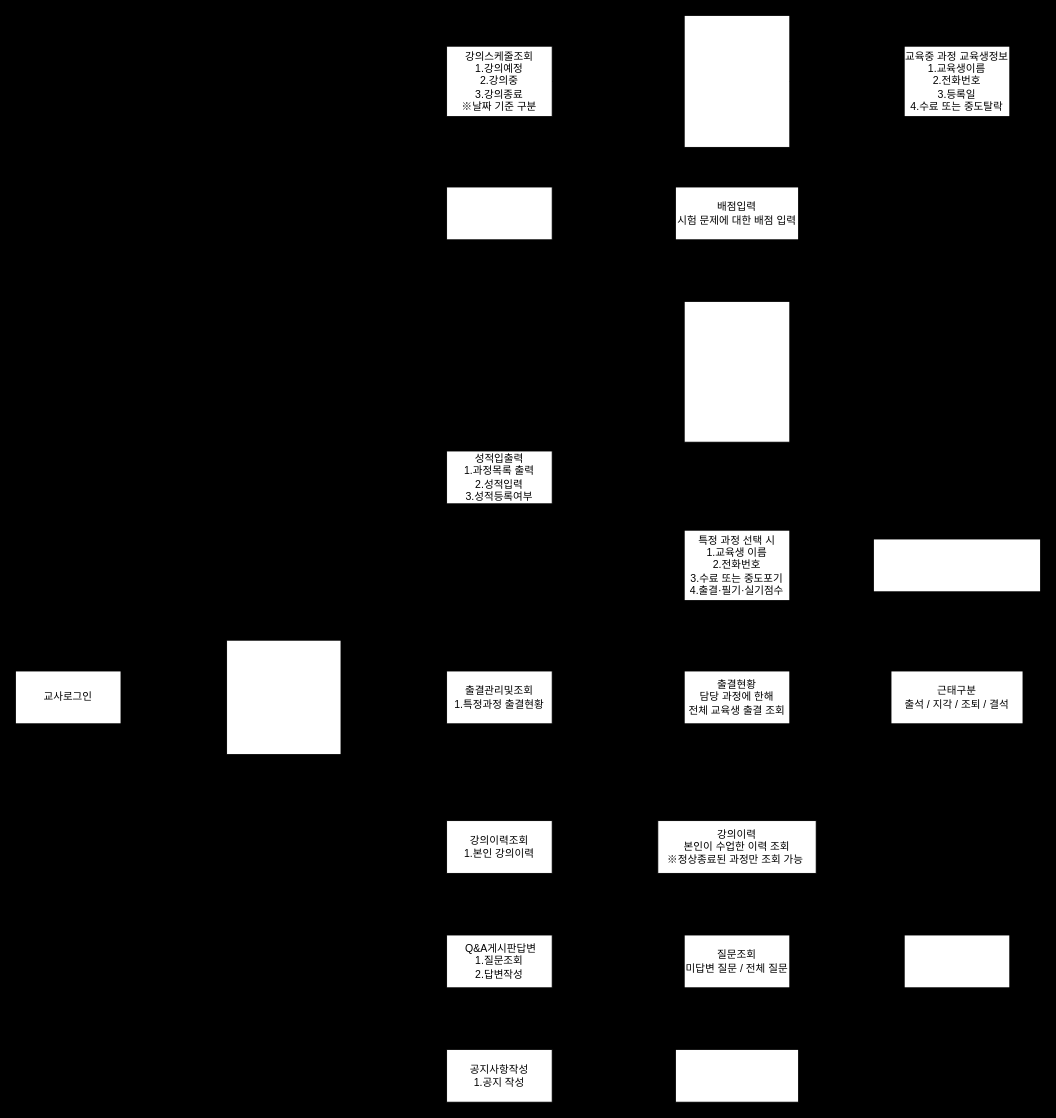
The diagram is 1056 pixels wide and 1118 high, and some of its shapes have lost their labels. Each missing label, with the centre of its shape:
"강의스케줄정보 1.과목번호 2.과정명 3.과정기간 4.강의실 5.과목명 6.과목기간 7.교재명 8.교육생 등록인원" belongs at (x=736, y=81).
"공지작성 해당 과정 참여 학생 대상" belongs at (x=737, y=1075).
"과정목록출력 1.과정번호 2.과정명 3.과정기간 4.강의실 5.과목명 6.과목기간 7.교재명 8.출결·필기·실기배점" belongs at (x=736, y=371).
"교사기능 1.강의스케줄조회 2.배점입출력 3.성적입출력 4.출결관리및조회 5.강의이력조회 6.Q&A게시판답변 7.공지사항작성" belongs at (x=283, y=697).
"답변작성 담당 과정·과목만 가능 ※null 값 입력 불가" belongs at (x=956, y=961).
"배점입출력 1.배점입력" belongs at (x=499, y=213).
"성적등록여부 교육생 전체 성적등록 여부 출력 ※중도탈락 교육생도 명단엔 출력 (성적은 미입력)" belongs at (x=957, y=565).
